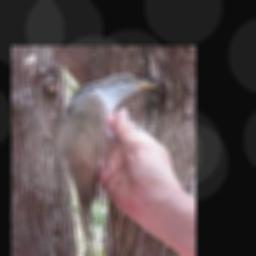Cuckoo: (57, 74, 159, 256)
